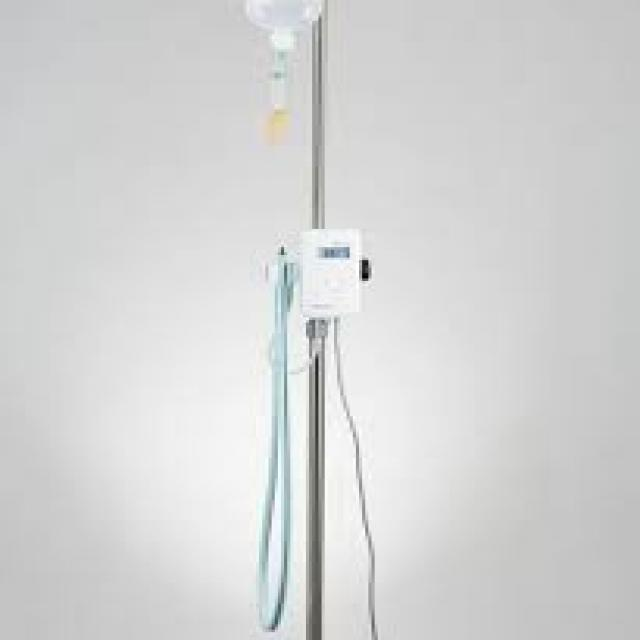iv_fluids: (237, 6, 346, 202)
